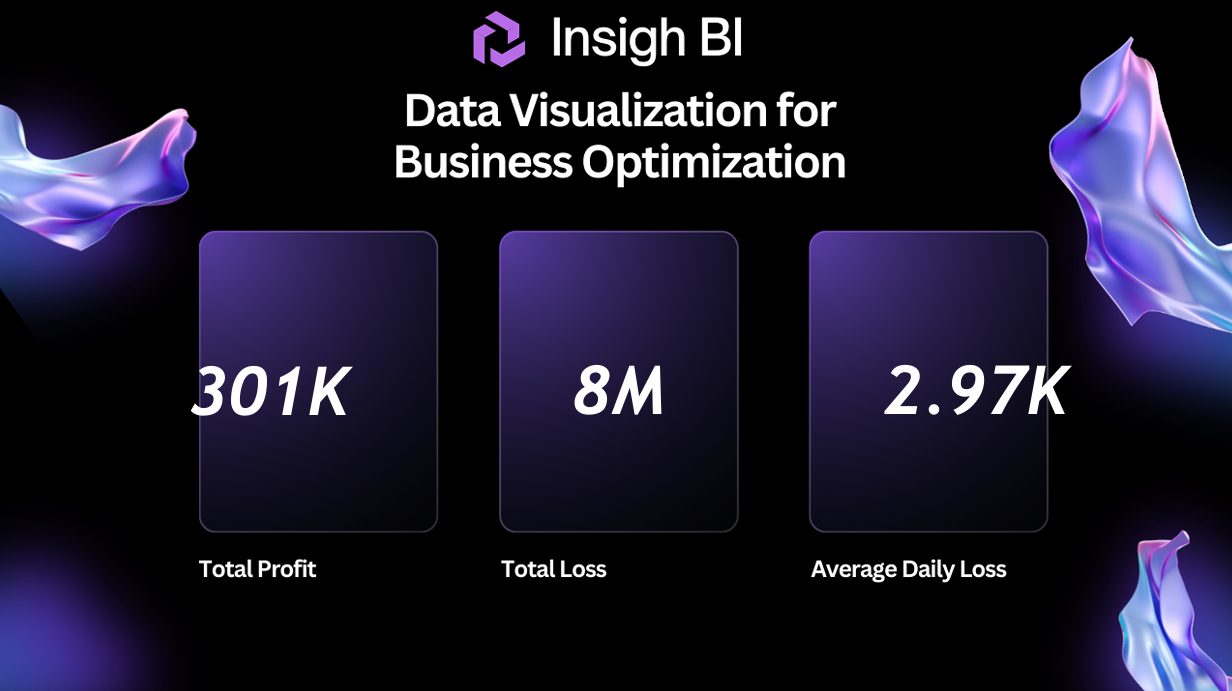

The page's visual inventory and layout, read from the dashboard file:
{"tool":"powerbi","page":{"name":"Page 2","canvas":[1280,720],"ordinal":1},"visuals":[{"type":"card","fields":{"Values":["Measures Table.Total Profit"]},"box":[220.2,254.9,220.2,273.4],"z":0},{"type":"card","fields":{"Values":["Measures Table.Total Loss"]},"box":[529,254.3,221,273.4],"z":1000},{"type":"card","fields":{"Values":["Measures Table.Average Loss Per Day"]},"box":[847.1,254.3,221,273.4],"z":2000}]}

Visuals, with their boxes in screenshot pixels (x1, y1, x2, y2), scaled from the page's 1280x720 canvas onto the 1232x691 screenshot:
card - Measures Table.Total Profit: crop(212, 245, 424, 507)
card - Measures Table.Total Loss: crop(509, 244, 722, 506)
card - Measures Table.Average Loss Per Day: crop(815, 244, 1028, 506)
